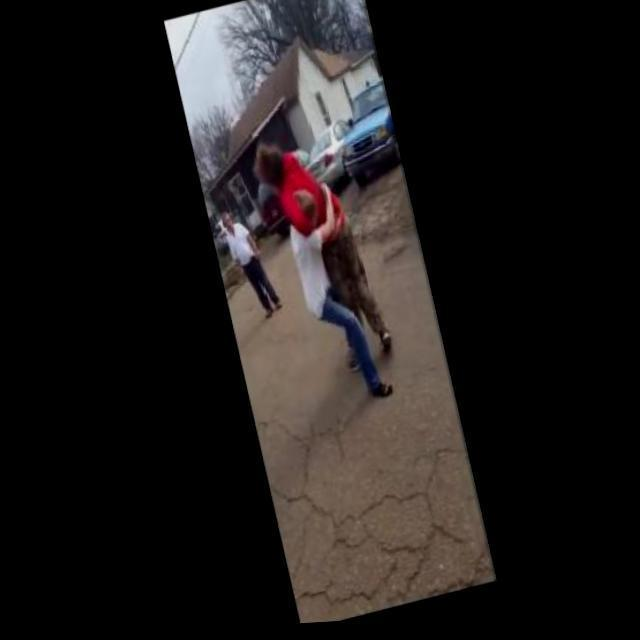fight: (241, 122, 405, 428)
